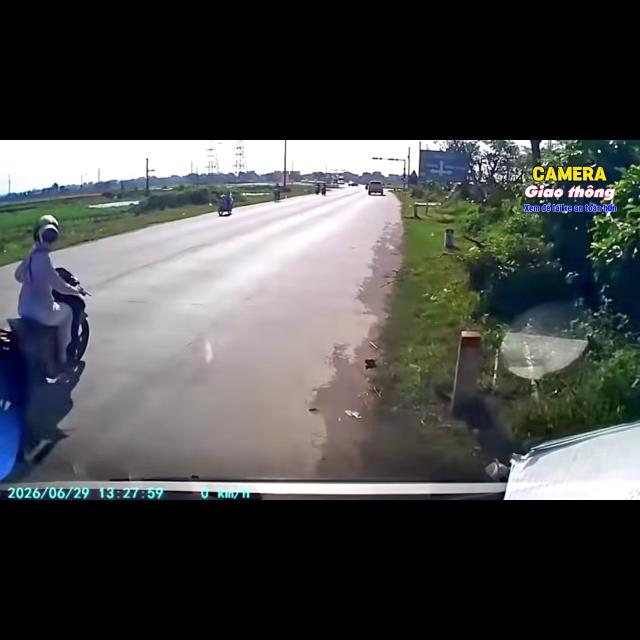car: (367, 181, 383, 194), (349, 182, 358, 186)
motorcycle: (7, 318, 64, 378), (218, 197, 232, 216), (321, 187, 326, 195), (315, 187, 320, 194)
